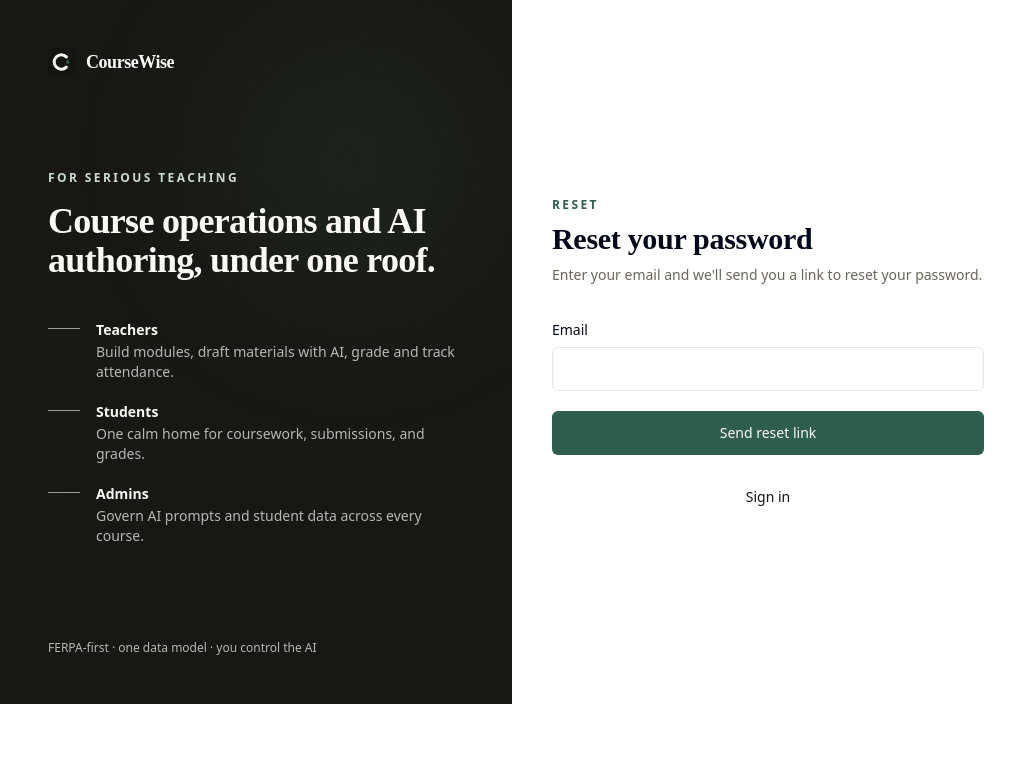
Scenario: ForgotPasswordPage › shows the confirmation panel after submit (success)
Type "student@example.com" into the field labelled "Email". click: (768, 369)
box: [552,347,984,391]
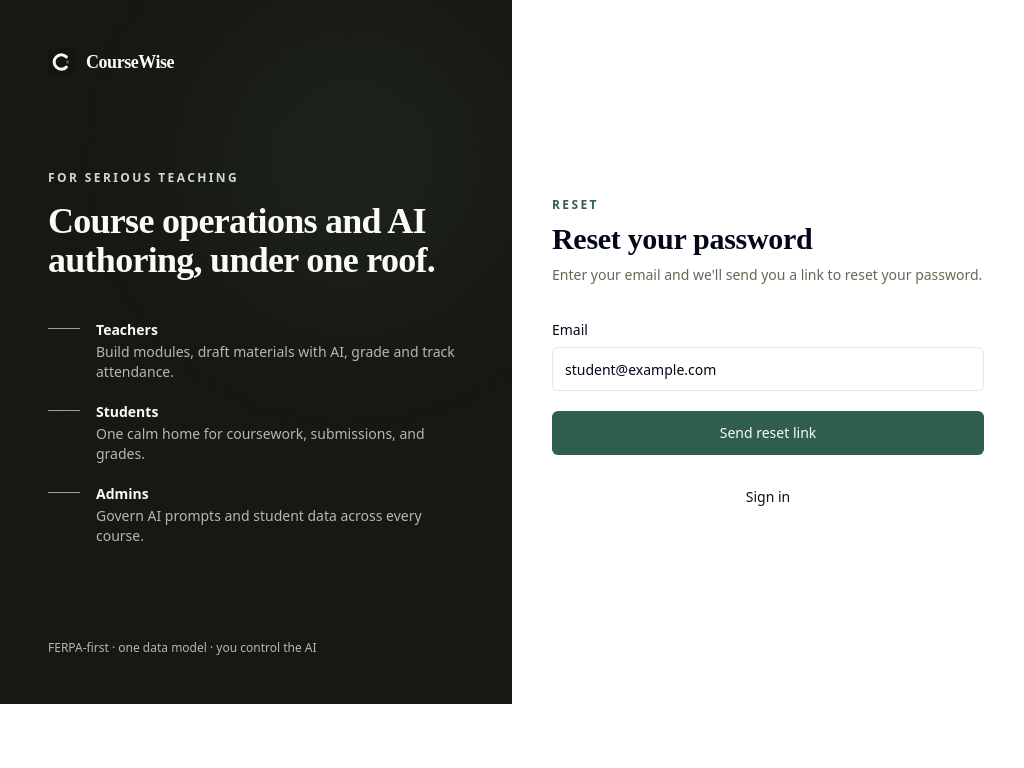
Click the button "Send reset link". click: (768, 433)
box: [552,411,984,455]
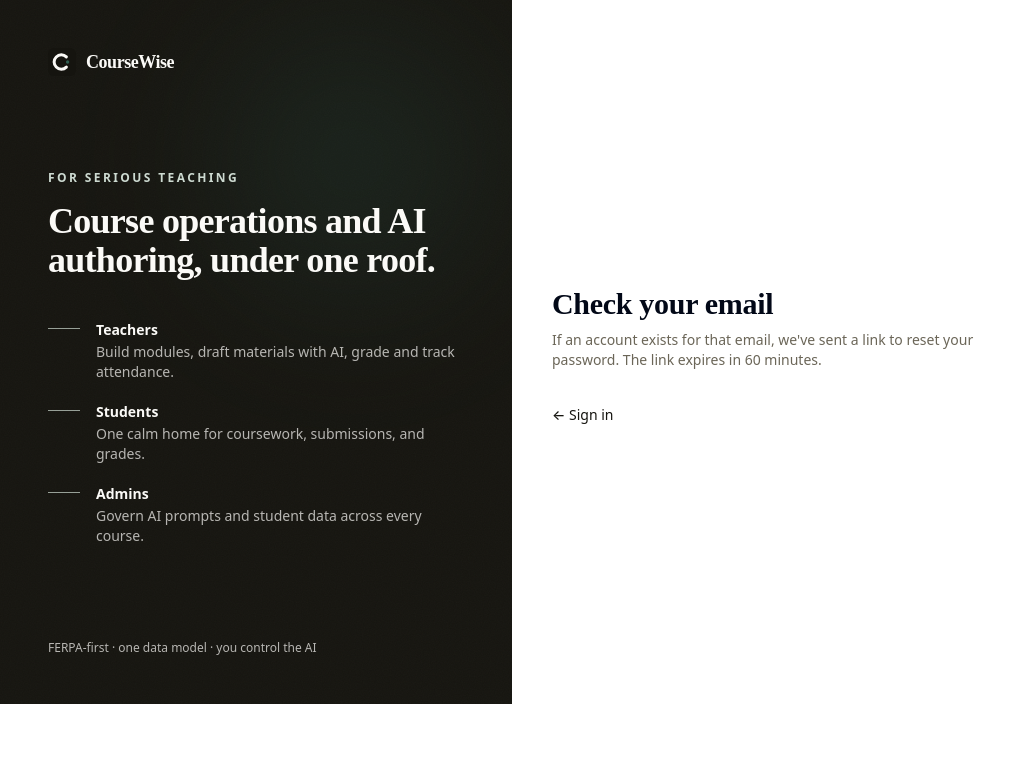
Result: the heading "Check your email" is shown at [552,287,773,320]
